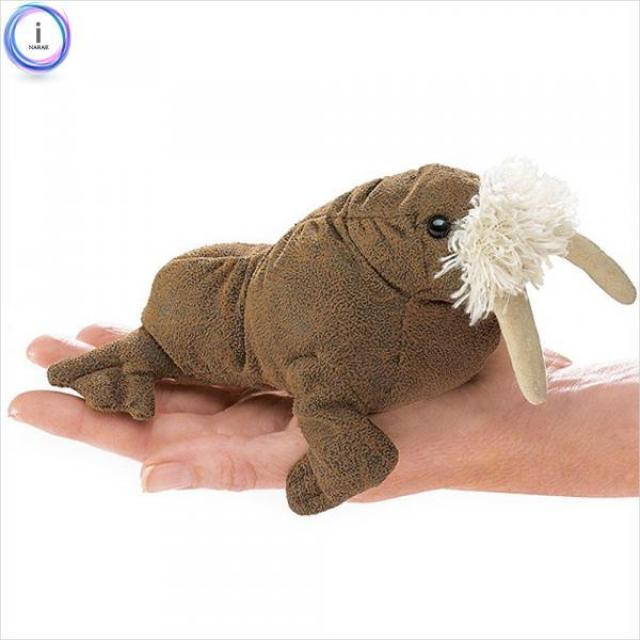walrus: (150, 168, 616, 452)
